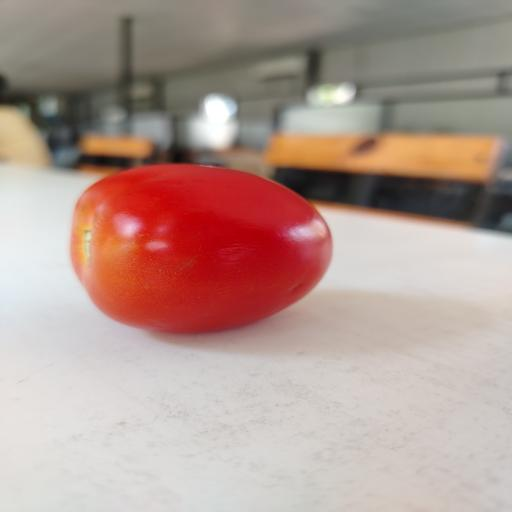ripe: (71, 164, 332, 332)
